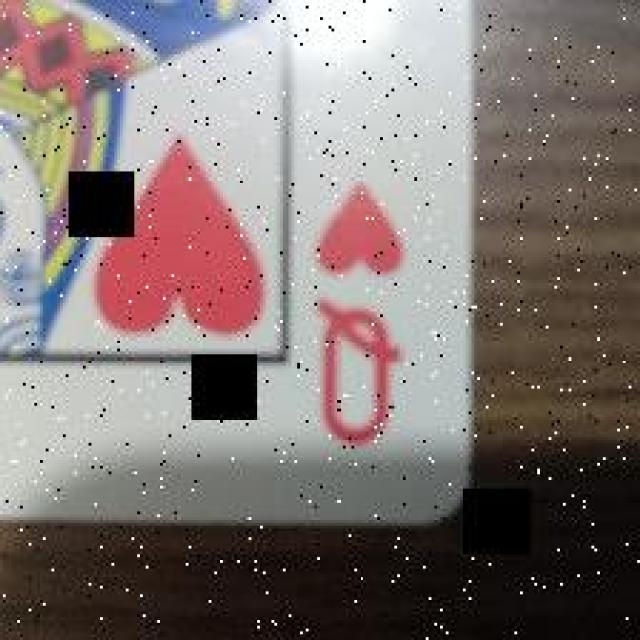Queen of hearts: (1, 1, 471, 521)
